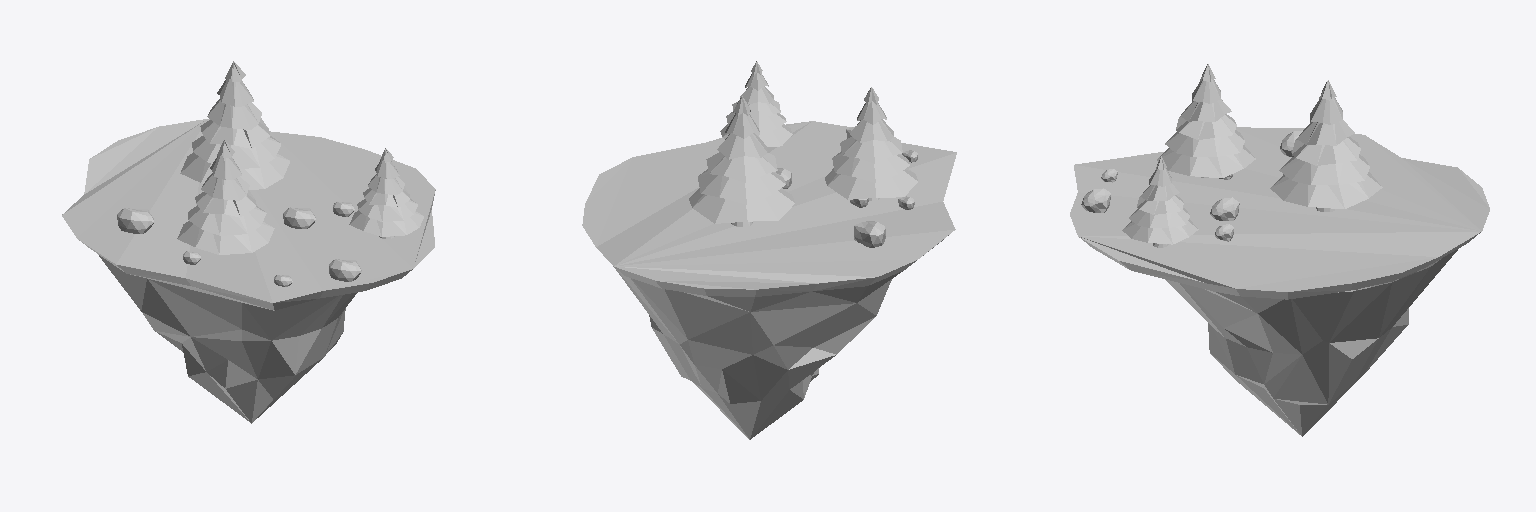
Rendered from Floating Island.obj.
3 views of the same model, side by side, from view 1: azimuth 30°, elevation 25°; view 2: azimuth 150°, elevation 25°; view 3: azimuth 270°, elevation 25° (orthographic).
Visible parts, largest first — view 1: Island_Grass_Cylinder_004, Island_Cylinder_003, Tree_Behind_Plant_Cylinder_005, Tree_Mid_Plant_Cylinder_009, Tree_Foward_Plant_Cylinder_008, Icosphere_002, Icosphere_007, Icosphere_005; view 2: Island_Grass_Cylinder_004, Island_Cylinder_003, Tree_Behind_Plant_Cylinder_005, Tree_Mid_Plant_Cylinder_009, Tree_Foward_Plant_Cylinder_008, Icosphere_002; view 3: Island_Grass_Cylinder_004, Island_Cylinder_003, Tree_Behind_Plant_Cylinder_005, Tree_Mid_Plant_Cylinder_009, Tree_Foward_Plant_Cylinder_008, Icosphere_007, Icosphere_005.
Part boxes in pixels (bbox=[...]): Island_Grass_Cylinder_004: bbox=[62, 119, 435, 310]; Island_Cylinder_003: bbox=[99, 255, 357, 423]; Tree_Behind_Plant_Cylinder_005: bbox=[180, 61, 289, 189]; Tree_Mid_Plant_Cylinder_009: bbox=[177, 140, 274, 254]; Tree_Foward_Plant_Cylinder_008: bbox=[349, 148, 423, 236]; Icosphere_002: bbox=[117, 208, 153, 233]; Icosphere_007: bbox=[329, 259, 361, 281]; Icosphere_005: bbox=[283, 207, 315, 228]; Island_Grass_Cylinder_004: bbox=[582, 121, 956, 296]; Island_Cylinder_003: bbox=[613, 266, 902, 439]; Tree_Behind_Plant_Cylinder_005: bbox=[689, 96, 794, 223]; Tree_Mid_Plant_Cylinder_009: bbox=[825, 87, 917, 199]; Tree_Foward_Plant_Cylinder_008: bbox=[720, 61, 792, 146]; Icosphere_002: bbox=[854, 221, 885, 247]; Island_Grass_Cylinder_004: bbox=[1070, 127, 1489, 299]; Island_Cylinder_003: bbox=[1165, 249, 1457, 436]; Tree_Behind_Plant_Cylinder_005: bbox=[1270, 80, 1382, 208]; Tree_Mid_Plant_Cylinder_009: bbox=[1157, 64, 1255, 177]; Tree_Foward_Plant_Cylinder_008: bbox=[1122, 156, 1198, 244]; Icosphere_007: bbox=[1081, 188, 1110, 212]; Icosphere_005: bbox=[1210, 197, 1239, 220].
Bounding box in the file's own units: 5.89 × 6.07 × 6.52.